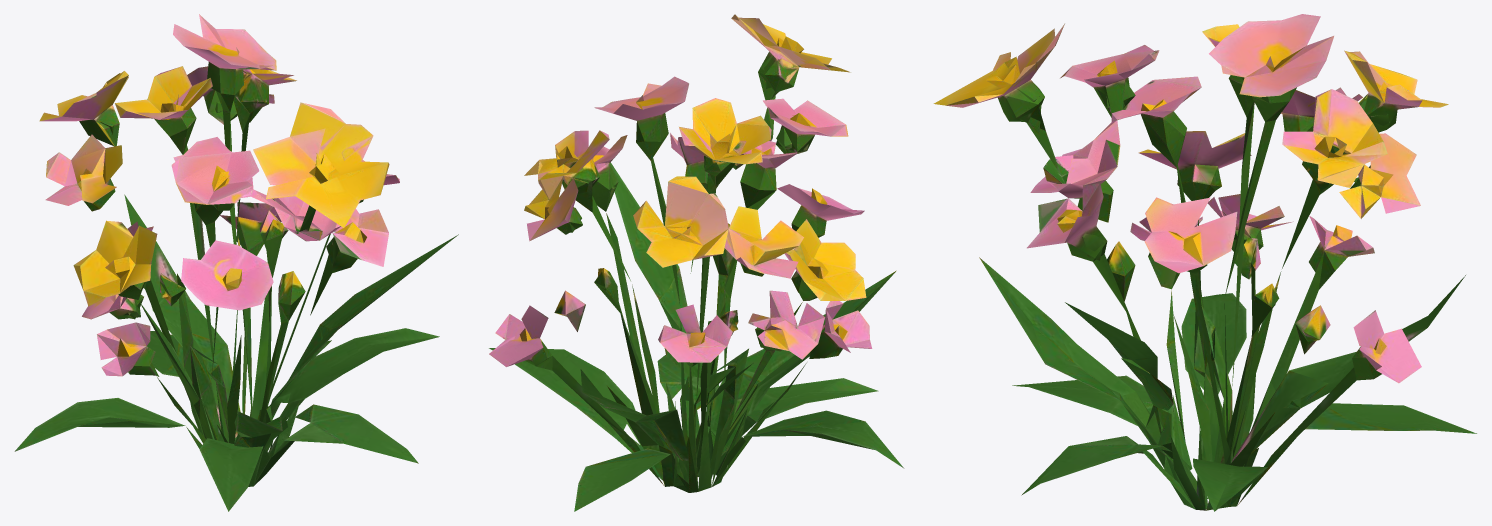
Rendered from flowerClump.glb.
3 views of the same model, side by side, from view 1: azimuth 30°, elevation 25°; view 2: azimuth 150°, elevation 25°; view 3: azimuth 270°, elevation 25° (orthographic). The views are drawn at different scales.
Size of the model in its own units: 1.82 by 1.75 by 1.8.
1 material, 1 textured.
